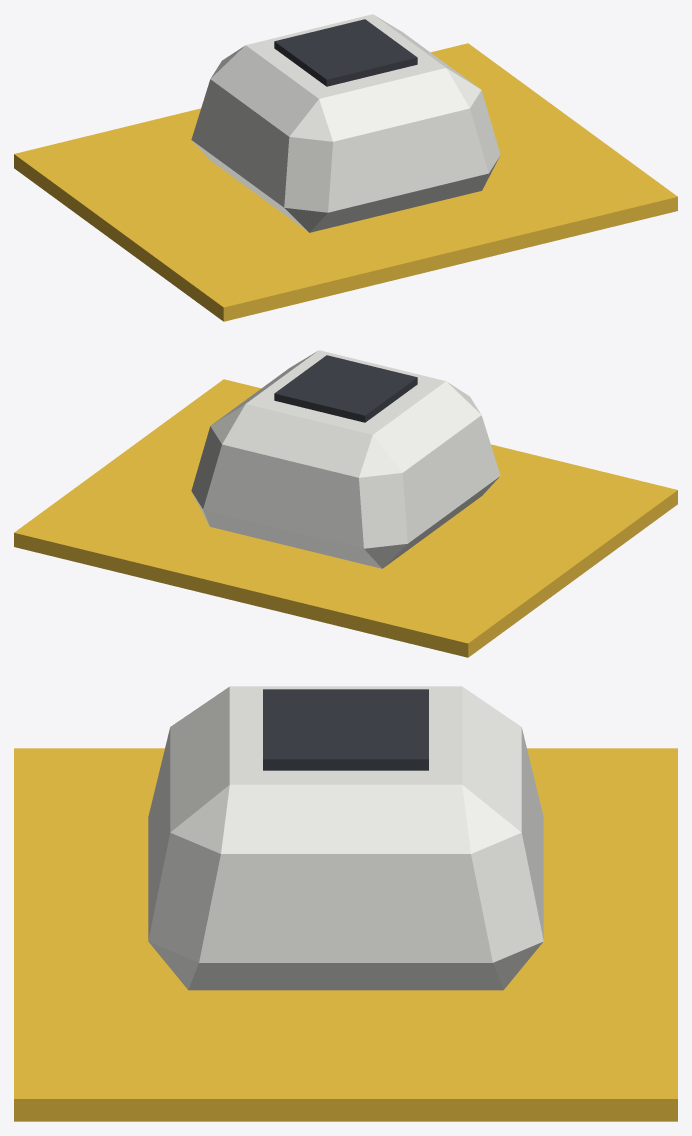
The model's file is prop_autoreply_p1.glb.
The picture shows the model from 3 angles, top to bottom: view 1: azimuth 30°, elevation 25°; view 2: azimuth 150°, elevation 25°; view 3: azimuth 270°, elevation 25°; orthographic projection. The views are drawn at different scales.
Parts seen in each view (by area): view 1: prop_autoreply_p1_mesh; view 2: prop_autoreply_p1_mesh; view 3: prop_autoreply_p1_mesh.
Boxes of the visible parts, x1,y1,x2,y2 form: prop_autoreply_p1_mesh: (14,14,677,321); prop_autoreply_p1_mesh: (14,350,677,657); prop_autoreply_p1_mesh: (14,686,677,1121).
Bounding box in the file's own units: 0.2 × 0.059 × 0.16.
